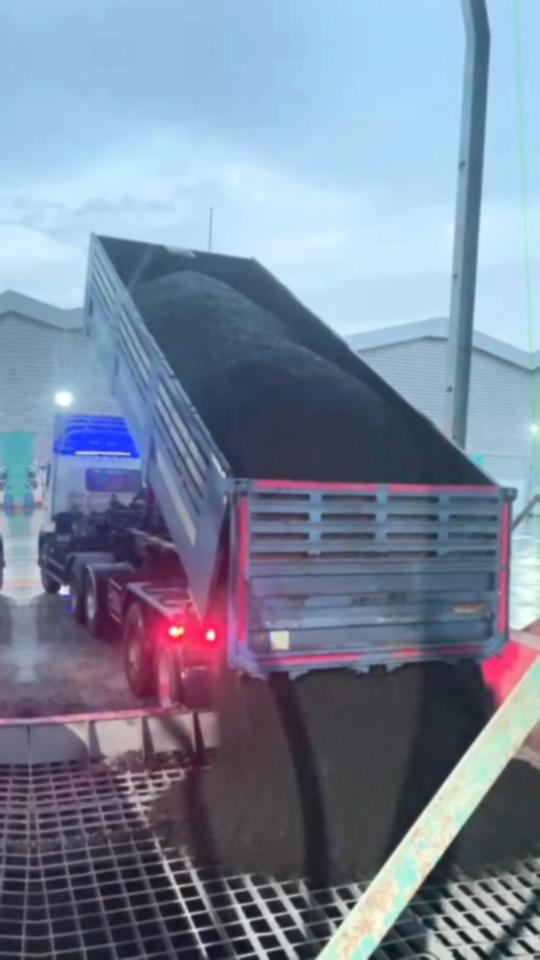gravel: (152, 664, 486, 884), (134, 271, 448, 483), (456, 749, 540, 869)
